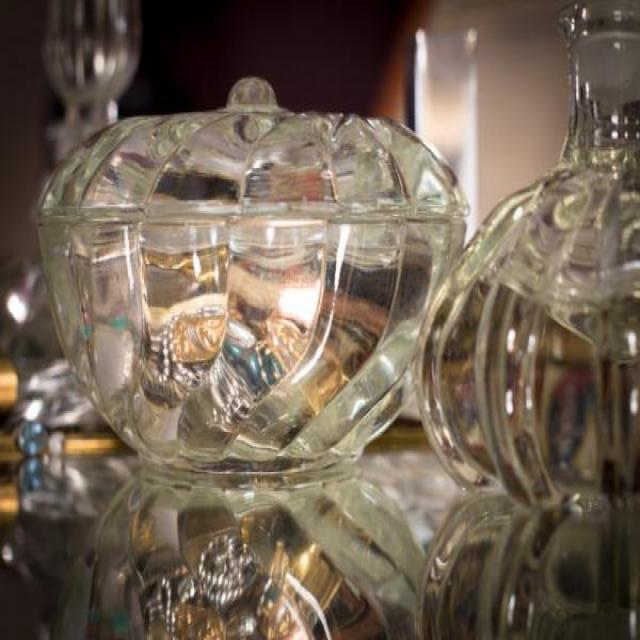non-organic waste: (24, 70, 477, 487)
